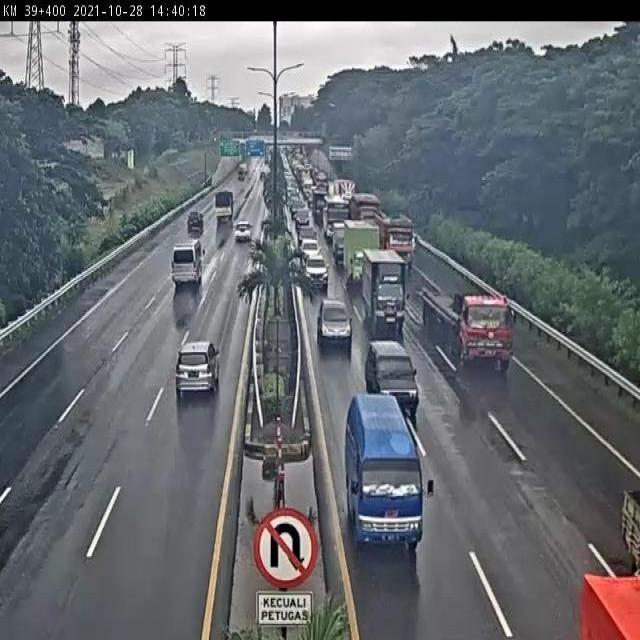small bus: (341, 390, 443, 566)
